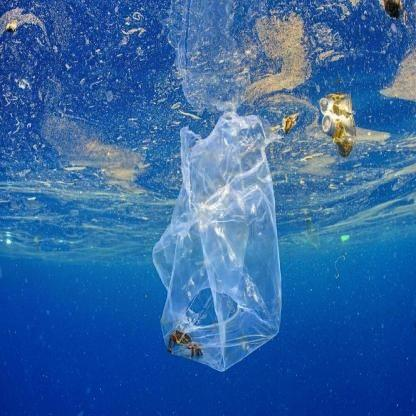pbag: (150, 110, 283, 371)
plastic: (322, 109, 356, 161)
